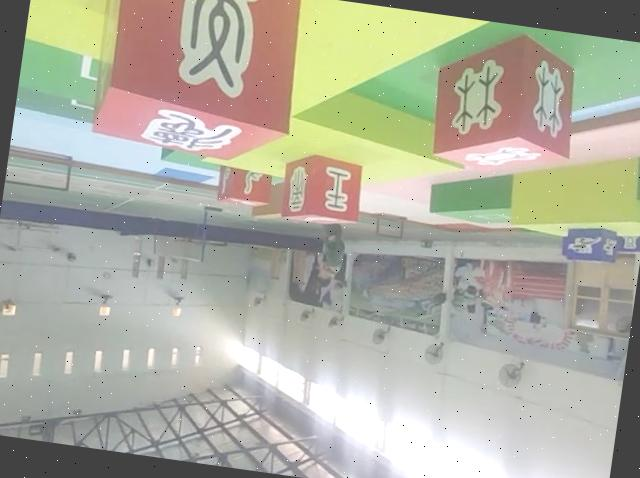R2 Fake: (83, 0, 315, 175), (280, 150, 365, 236)
R2 Real: (424, 24, 591, 184), (214, 161, 276, 212)
